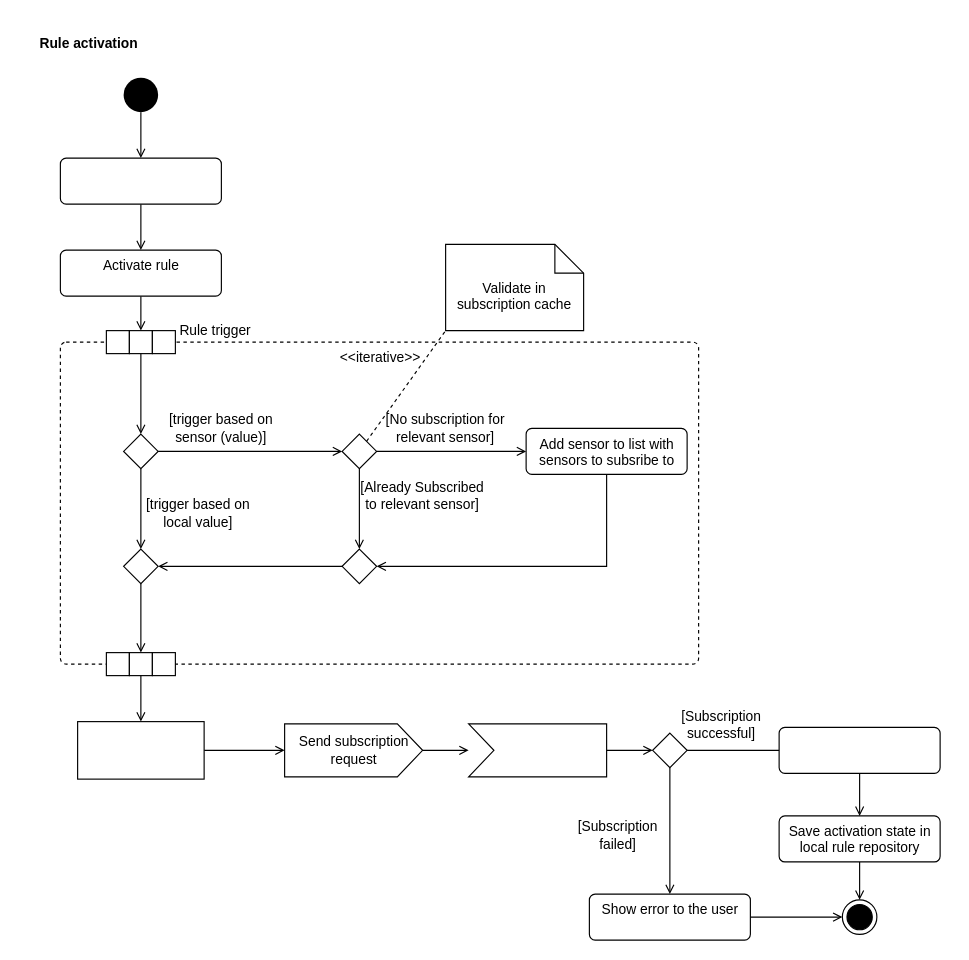
This 969x960 diagram has some shape labels left out. The centre of each missing label's shape, as x and y in pixels:
List with all sensors to subscribe to: (140,749)
Receive subscription response: (537,750)
Save subscriptions in the subscription chache: (859,749)
Select rule: (140,180)
